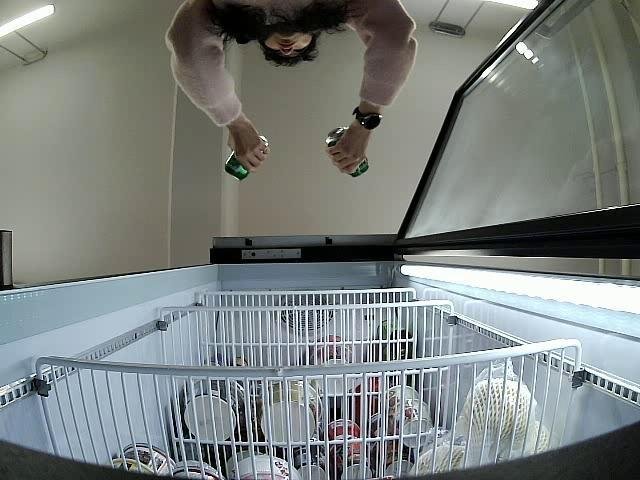12_chilsungCider: (326, 126, 370, 179), (226, 136, 270, 182)
